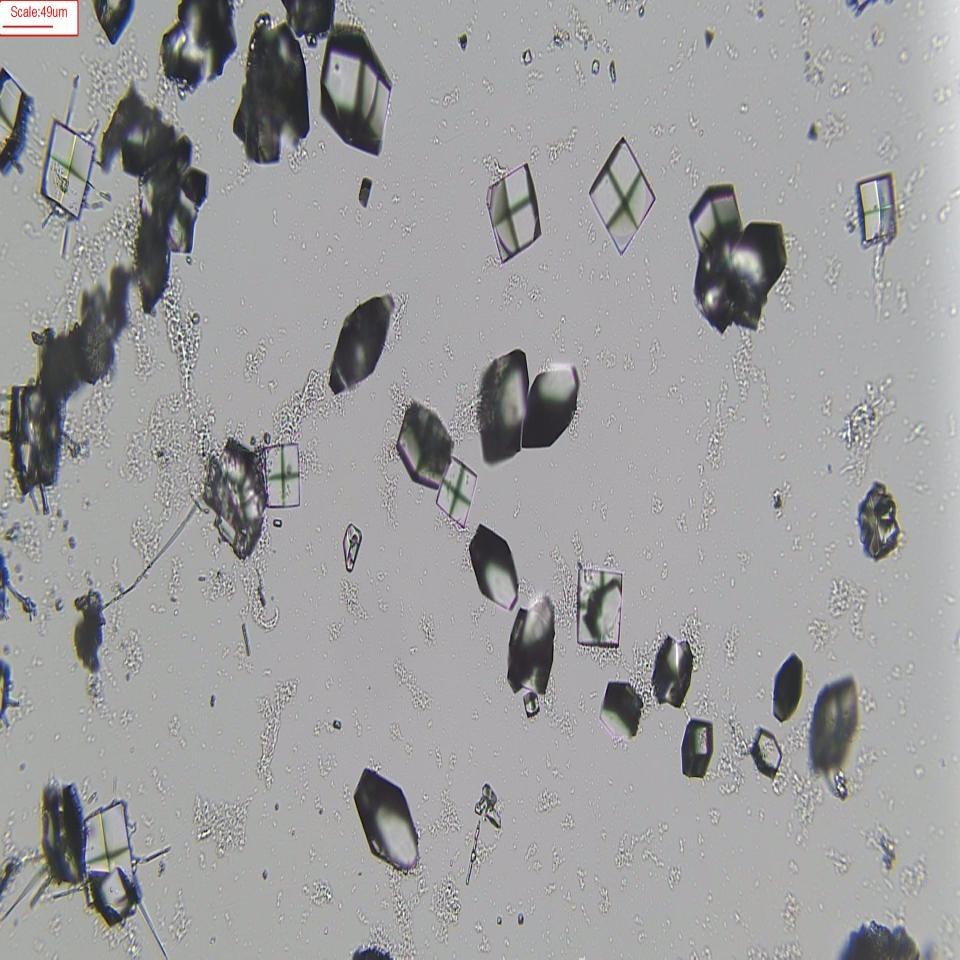crystal: (319, 32, 395, 152), (325, 289, 407, 394), (353, 759, 424, 878), (585, 135, 653, 251), (472, 339, 534, 461), (205, 442, 266, 558), (8, 379, 66, 490), (480, 164, 544, 263), (38, 115, 97, 221), (392, 398, 457, 490), (508, 584, 560, 695), (520, 365, 584, 451), (465, 526, 522, 608), (810, 680, 861, 770), (650, 624, 699, 717), (39, 786, 86, 882), (852, 167, 900, 249), (88, 860, 142, 927), (862, 482, 904, 559), (600, 676, 646, 744), (438, 459, 479, 529), (264, 438, 300, 508), (770, 647, 804, 719), (682, 714, 712, 781), (749, 731, 786, 775), (522, 686, 546, 724)
not_crystal: (689, 203, 784, 332)
